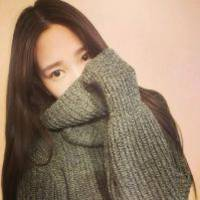face_mask: (39, 21, 103, 114)
